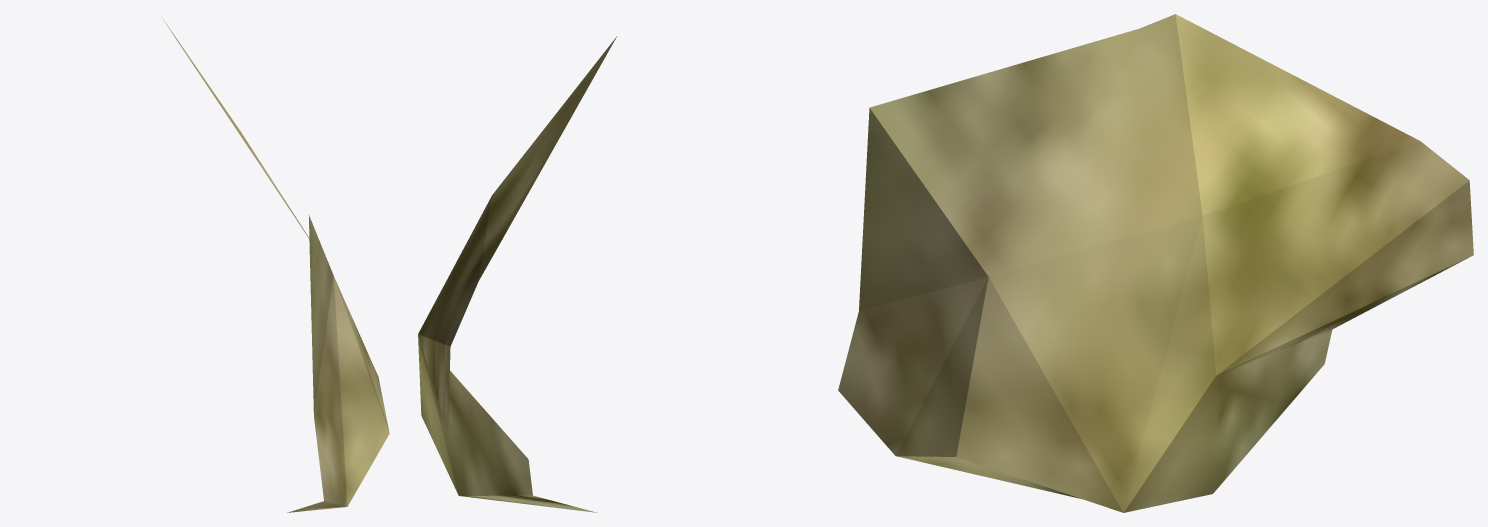
3 renders of one model, left to right at view 1: azimuth 30°, elevation 25°; view 2: azimuth 150°, elevation 25°; view 3: azimuth 270°, elevation 25°, orthographic. The views are drawn at different scales.
Bounding box in the file's own units: 0.1171 × 0.2555 × 0.3246.
1 material, 1 textured.
